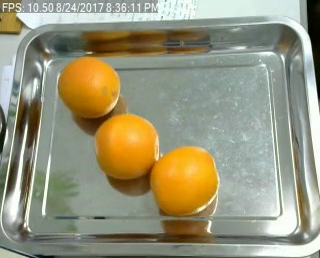Orange: (150, 145, 220, 215), (93, 112, 159, 179), (56, 56, 120, 116)
